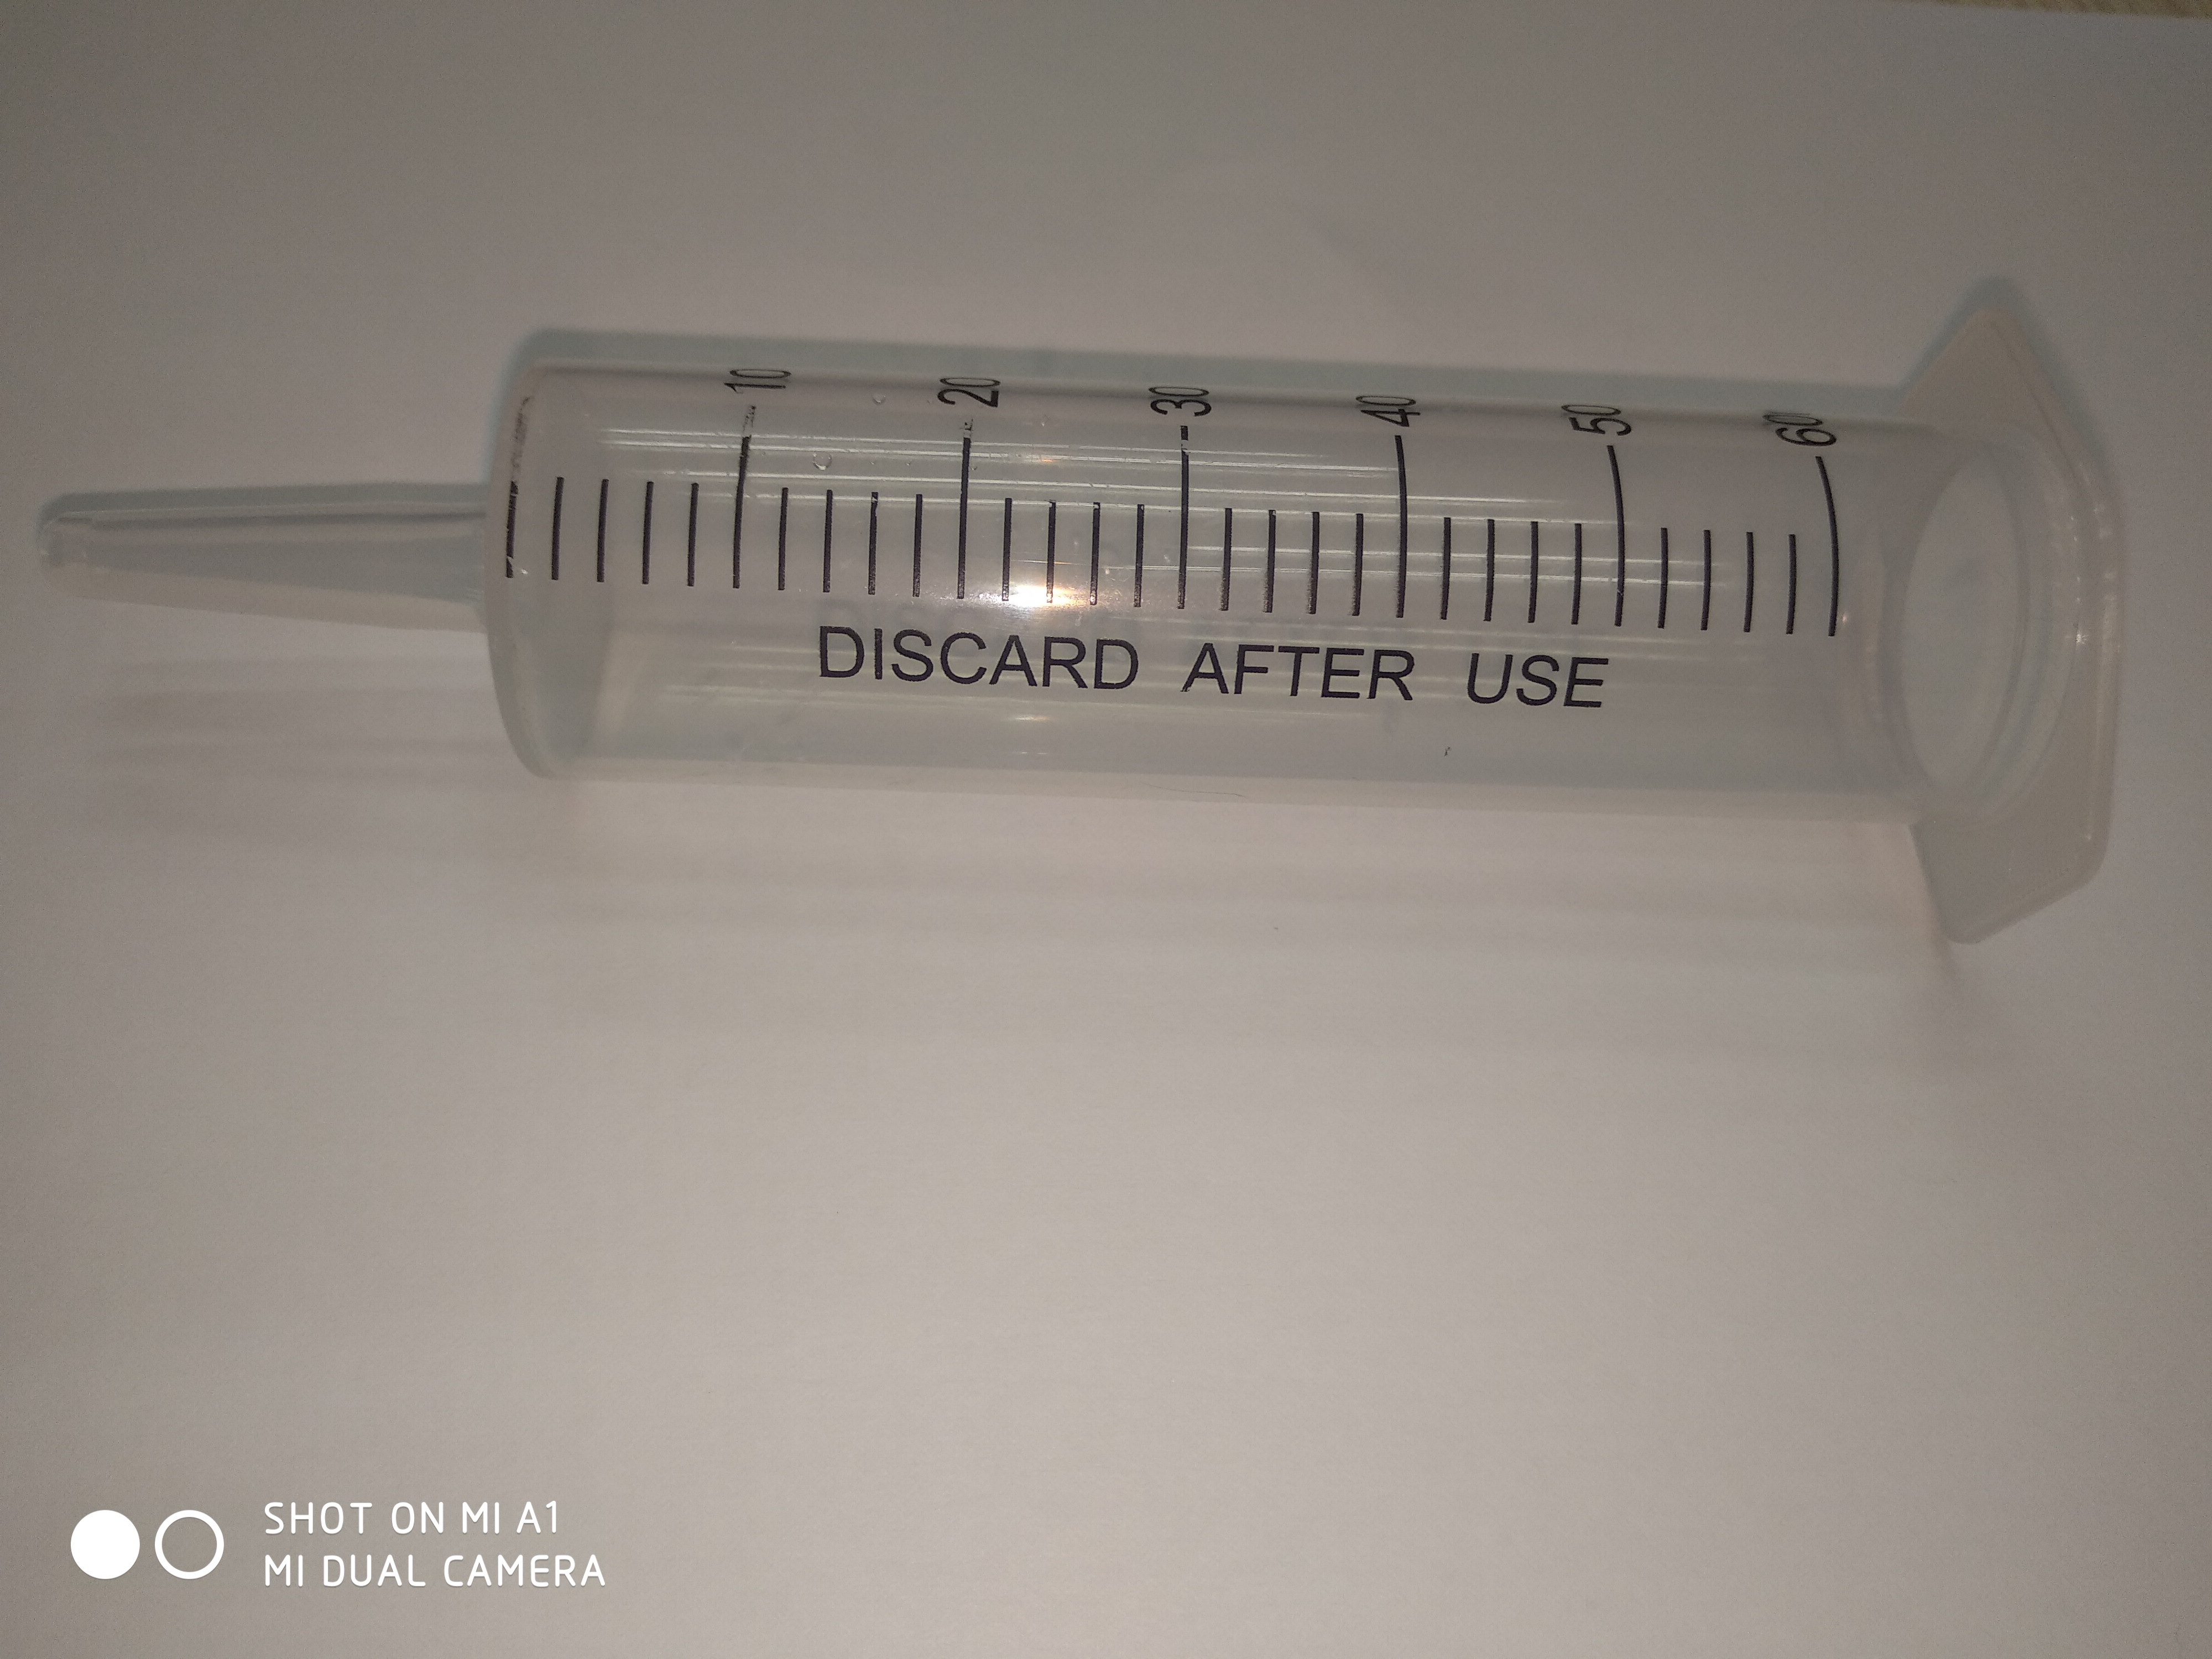syringe: (30, 301, 2135, 948)
